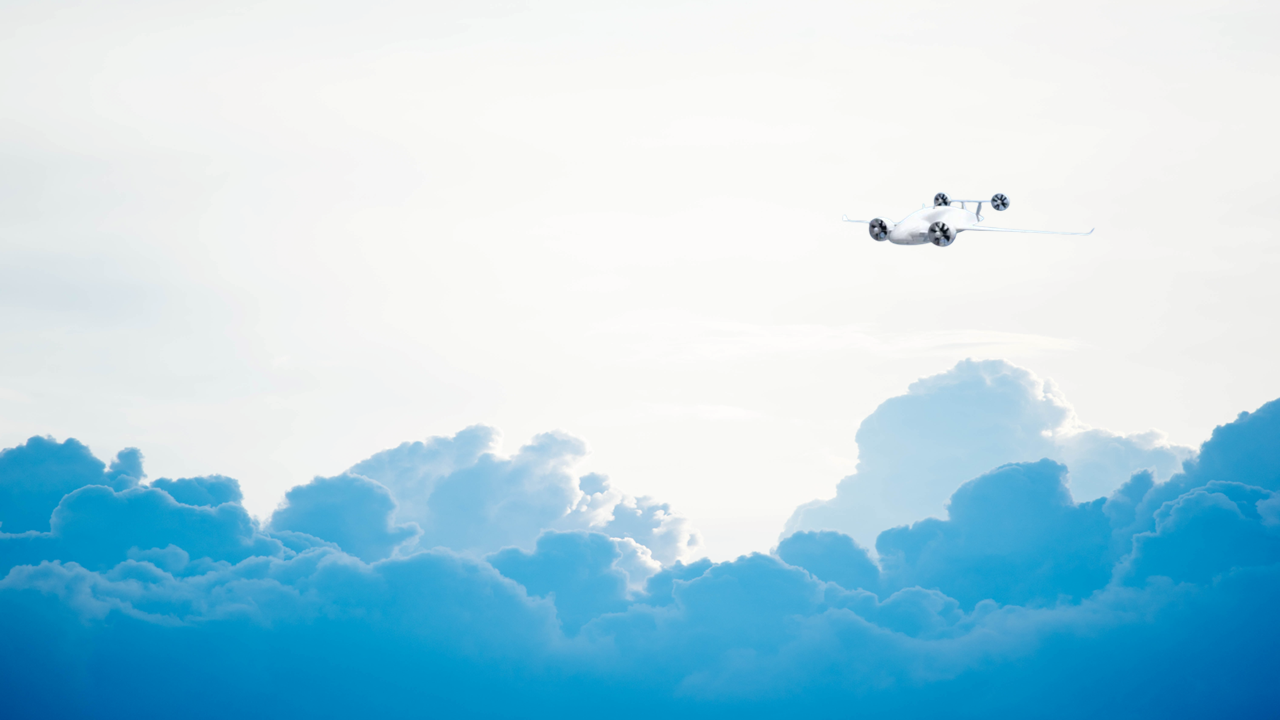military drone: (841, 191, 1095, 247)
